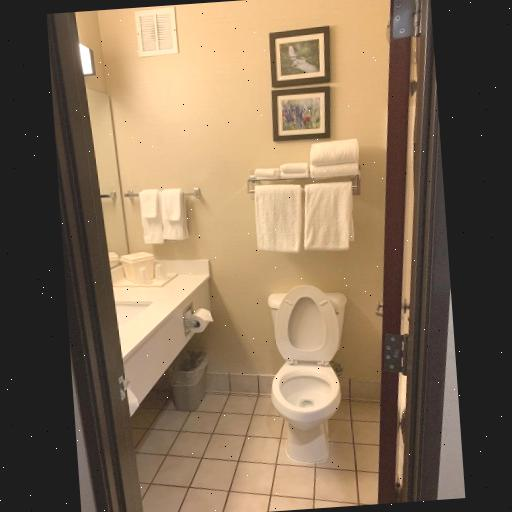clean_floor: (131, 390, 380, 512)
clean_sink: (116, 241, 216, 424)
clean_toilet: (240, 280, 370, 470)
folded_towel: (246, 182, 355, 256), (138, 187, 192, 247), (302, 133, 362, 181), (253, 158, 310, 186)
